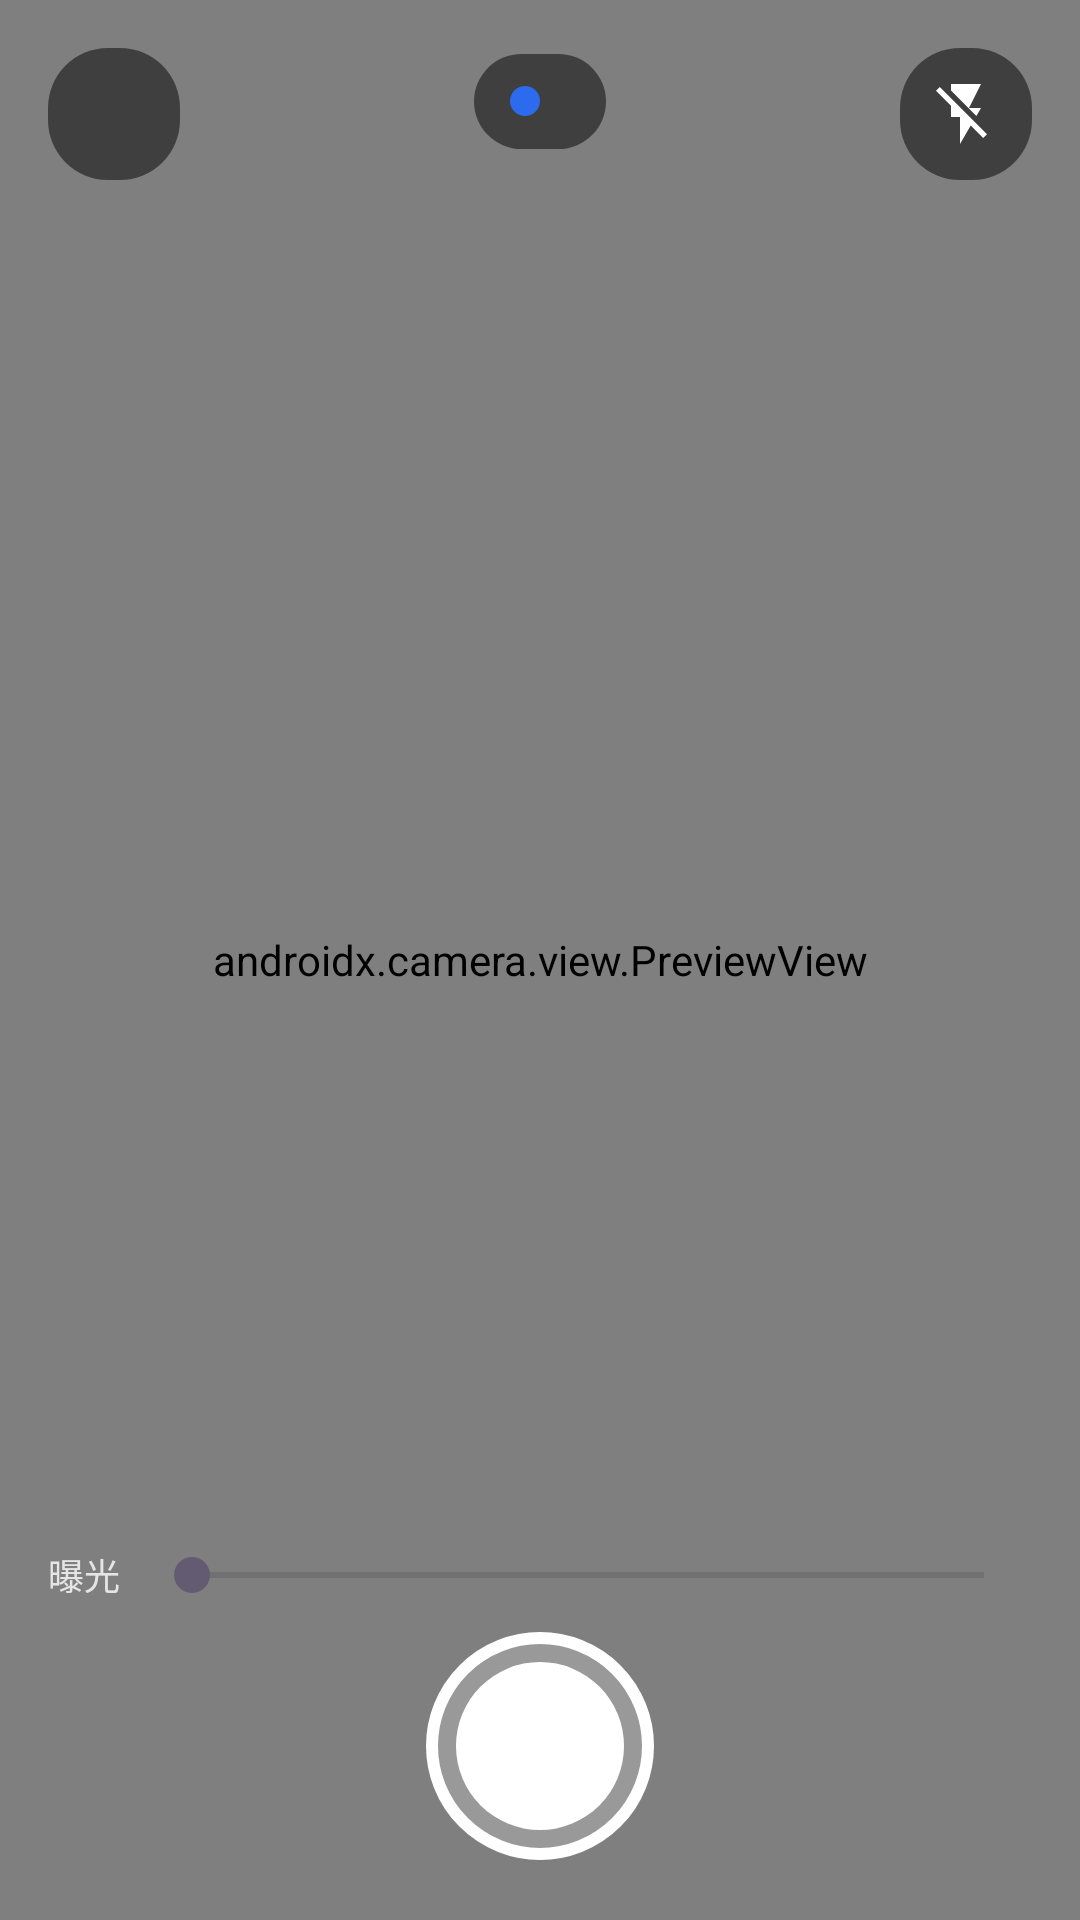

Icons on this 1080w x 1920h Android screen, each with the point to tap as [x,y]:
闪光灯: [966,114]
